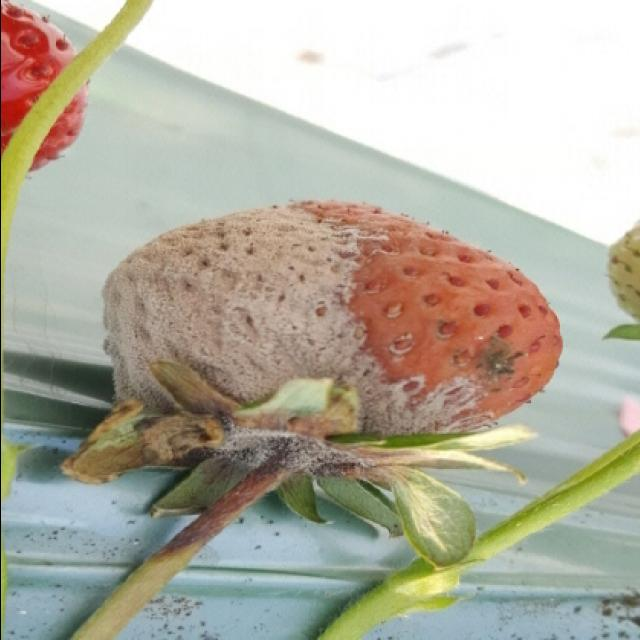Gray Mold: (99, 203, 518, 559)
